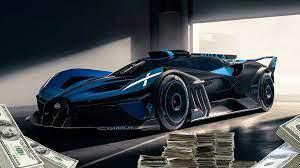car: (26, 47, 283, 131)
